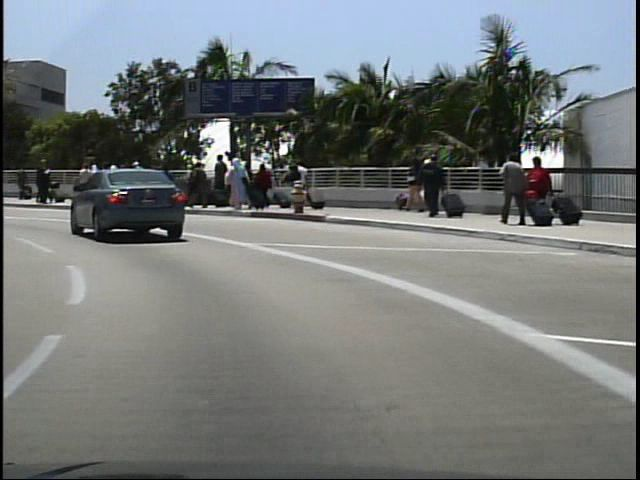person: (496, 151, 525, 226), (521, 154, 551, 225), (414, 153, 444, 218), (35, 157, 58, 210), (290, 155, 311, 205), (32, 156, 52, 203), (14, 163, 31, 202)
